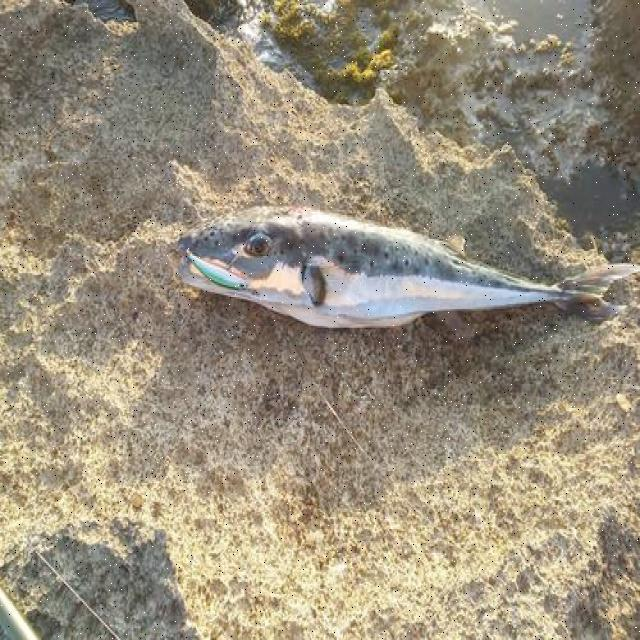Balik: (180, 207, 639, 327)
